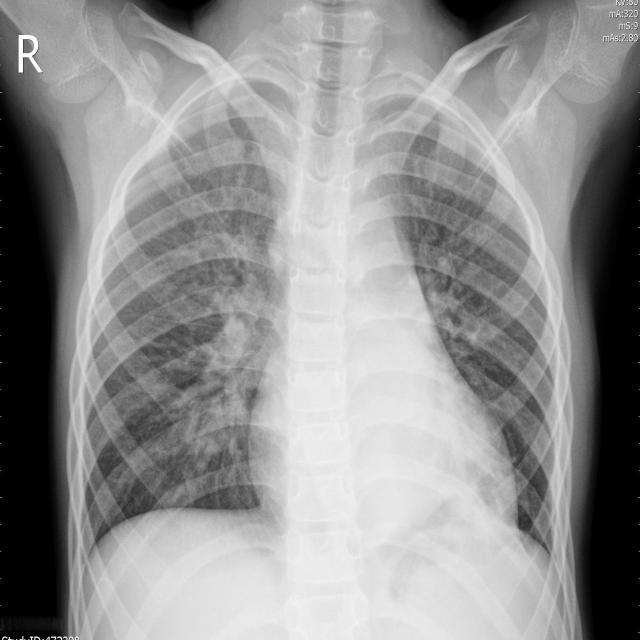low-pneumonia: (176, 234, 292, 459), (408, 213, 503, 352)
